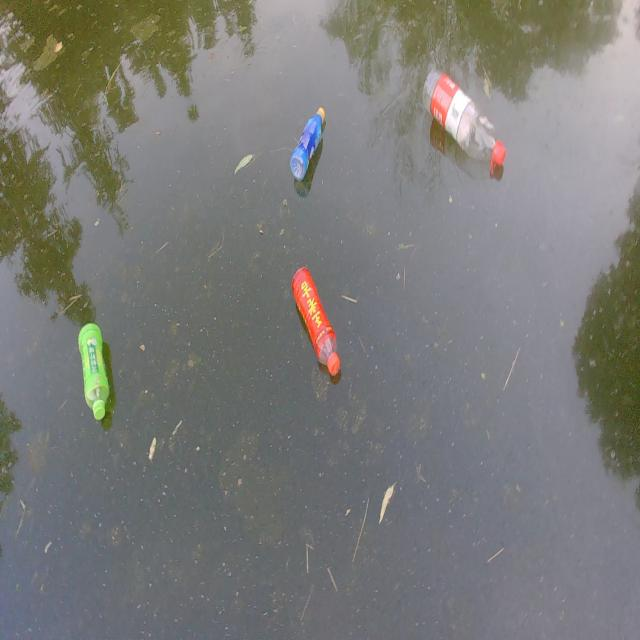Bottle: (419, 63, 509, 175), (288, 262, 341, 377), (76, 323, 114, 425), (287, 100, 326, 182)
